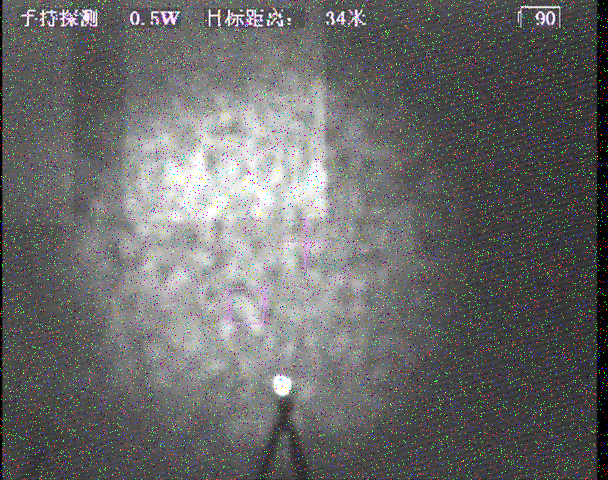my: (270, 373, 296, 398)
